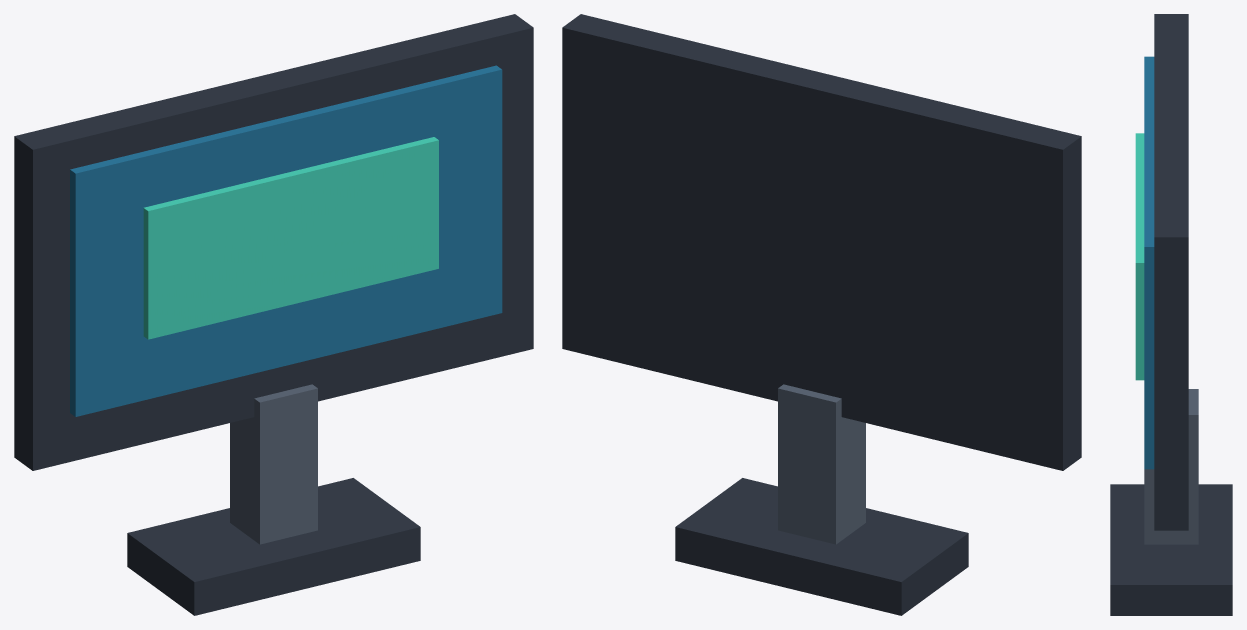
The model's file is monitor.glb.
3 views of the same model, side by side, from view 1: azimuth 30°, elevation 25°; view 2: azimuth 150°, elevation 25°; view 3: azimuth 270°, elevation 25° (orthographic). The views are drawn at different scales.
Visible parts, largest first — view 1: monitor screen, monitor body, screen glow, monitor base, monitor stand; view 2: monitor body, monitor base, monitor stand; view 3: monitor body, monitor base, monitor screen, monitor stand, screen glow.
Part boxes in pixels (x1=…): monitor screen: x1=70, y1=65, x2=502, y2=416; monitor body: x1=14, y1=14, x2=533, y2=470; screen glow: x1=143, y1=137, x2=438, y2=339; monitor base: x1=127, y1=478, x2=420, y2=615; monitor stand: x1=230, y1=384, x2=317, y2=544; monitor body: x1=562, y1=14, x2=1081, y2=470; monitor base: x1=675, y1=478, x2=968, y2=615; monitor stand: x1=778, y1=384, x2=865, y2=544; monitor body: x1=1154, y1=14, x2=1188, y2=530; monitor base: x1=1110, y1=484, x2=1232, y2=615; monitor screen: x1=1144, y1=56, x2=1154, y2=469; monitor stand: x1=1144, y1=389, x2=1198, y2=544; screen glow: x1=1135, y1=133, x2=1144, y2=380.
Bounding box in the file's own units: 1.55 × 1.43 × 0.36.
